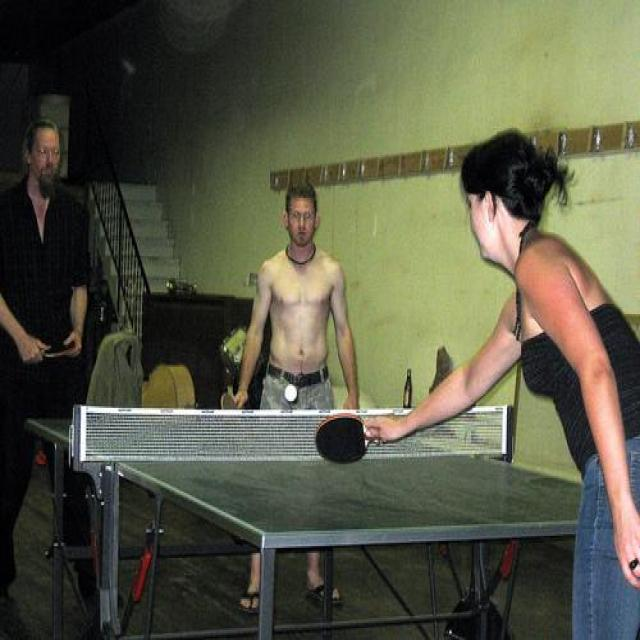ping-pong-ball: (284, 383, 298, 402)
